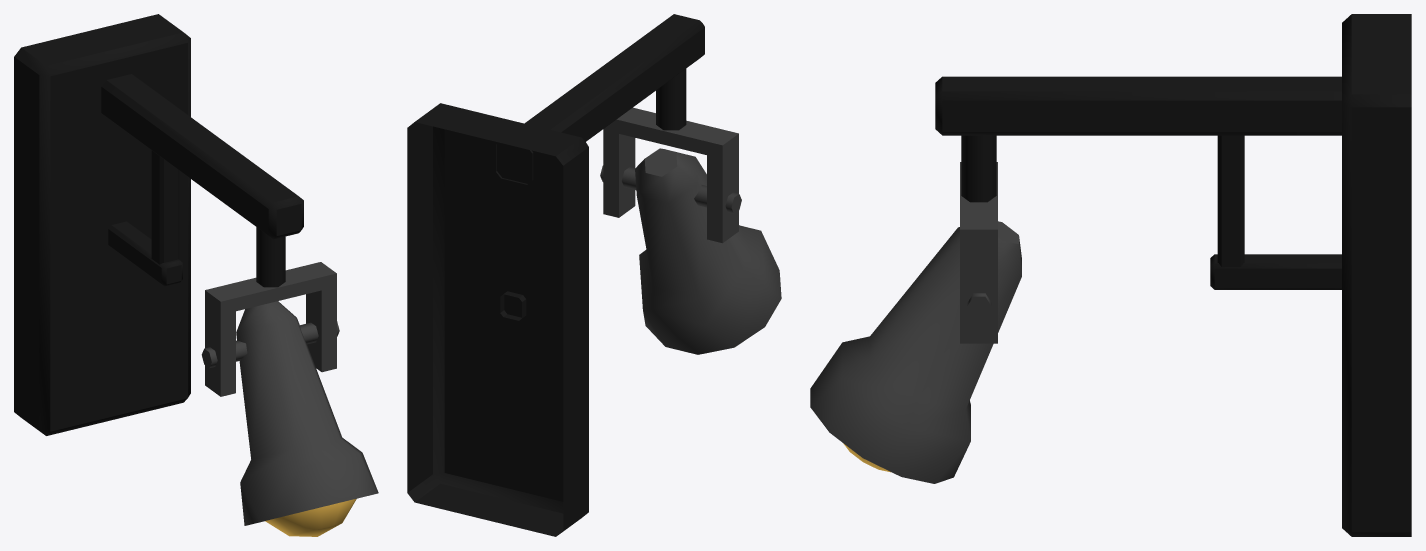
File: OUT_LampeMurale_Metal_01_LOD0.FBX
3 renders of one model, left to right at view 1: azimuth 30°, elevation 25°; view 2: azimuth 150°, elevation 25°; view 3: azimuth 270°, elevation 25°, orthographic. The views are drawn at different scales.
Visible parts, largest first — view 1: OUT_LampeMurale_Metal_01_LOD0; view 2: OUT_LampeMurale_Metal_01_LOD0; view 3: OUT_LampeMurale_Metal_01_LOD0.
Part boxes in pixels (x1,y1,x2,y2): OUT_LampeMurale_Metal_01_LOD0: [14, 14, 378, 536]; OUT_LampeMurale_Metal_01_LOD0: [407, 14, 781, 536]; OUT_LampeMurale_Metal_01_LOD0: [810, 14, 1411, 536].
Bounding box in the file's own units: 30 × 70 × 86.18.
